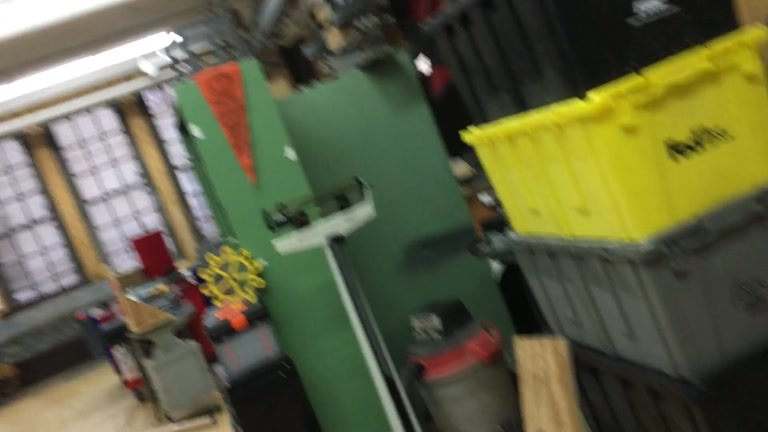gear: (197, 244, 267, 310)
